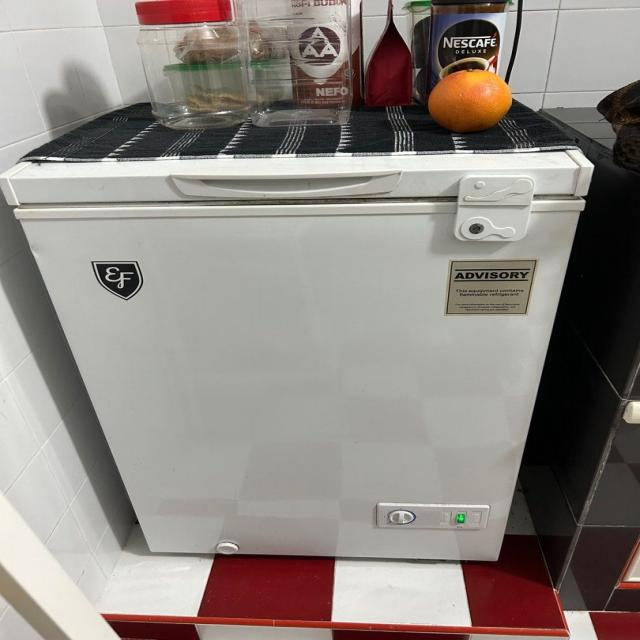refrigerator: (1, 160, 599, 564)
